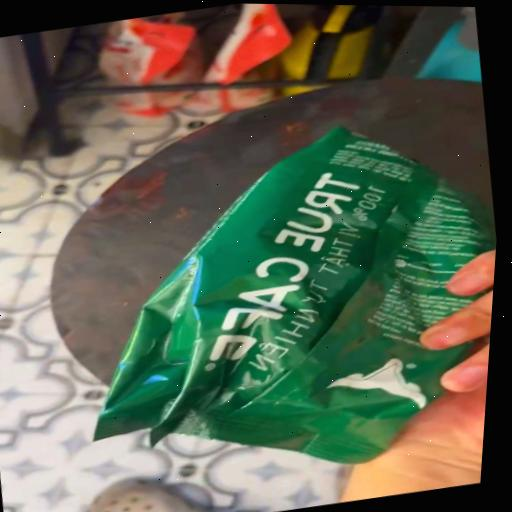cafe_xay: (95, 127, 494, 463)
